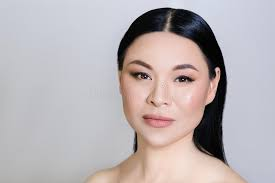asian_female: (94, 15, 230, 156)
